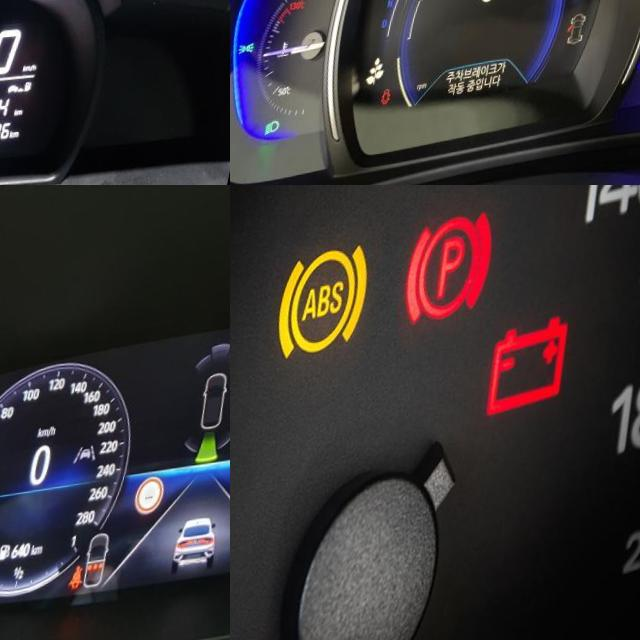Doors: (395, 92, 408, 110)
Low beam: (280, 123, 297, 139)
SideLamp: (250, 43, 268, 56)
